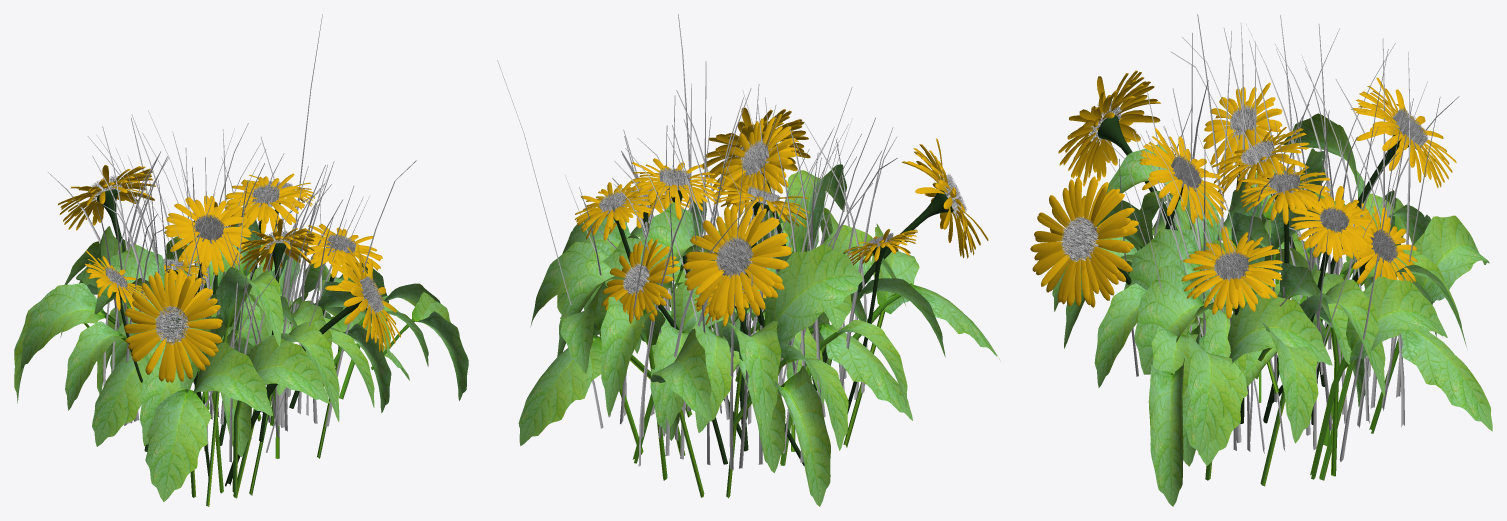
3 views of the same model, side by side, from view 1: azimuth 30°, elevation 25°; view 2: azimuth 150°, elevation 25°; view 3: azimuth 270°, elevation 25° (orthographic). The views are drawn at different scales.
Parts seen in each view (by area): view 1: 灌木96; view 2: 灌木96; view 3: 灌木96.
Part boxes in pixels (x1,y1,x2,y2): 灌木96: (14, 14, 468, 506); 灌木96: (497, 14, 1000, 506); 灌木96: (1030, 14, 1492, 506).
Bounding box in the file's own units: 20.76 × 21.29 × 20.04.
